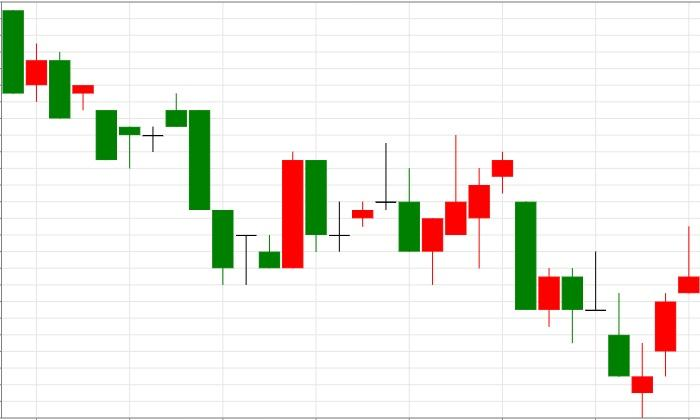bullish_engulfing_rise: (165, 94, 305, 286)
shooting_star_fall: (631, 226, 700, 418)
three_white_soldiers_rise: (491, 151, 700, 418)
